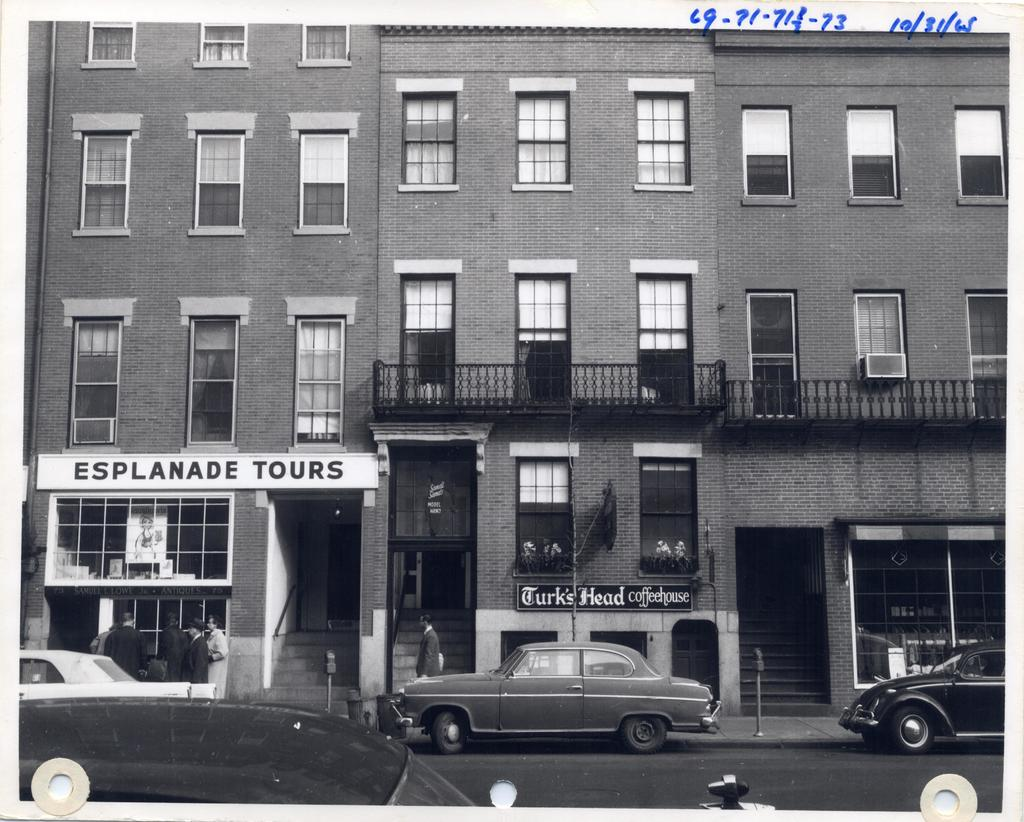Car: (21, 700, 478, 811), (381, 644, 723, 765), (835, 652, 996, 751), (15, 645, 220, 700)
